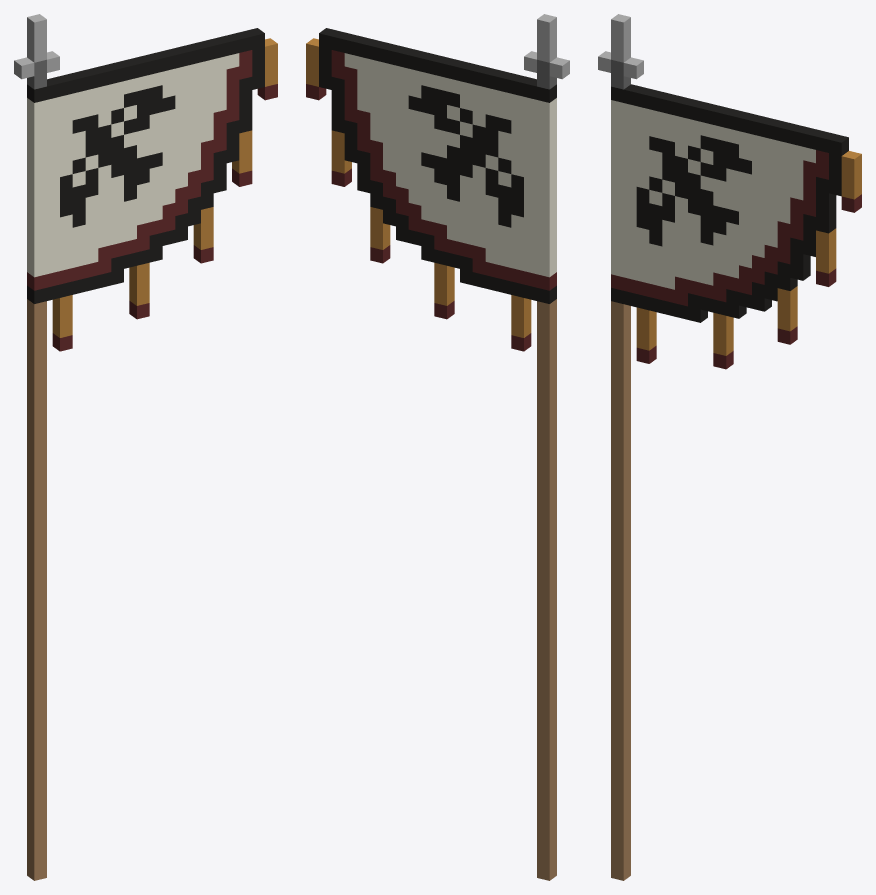
The model's file is character-25-banner_1_2_3_ja_color.obj.
3 views of the same model, side by side, from view 1: azimuth 30°, elevation 25°; view 2: azimuth 150°, elevation 25°; view 3: azimuth 330°, elevation 25° (orthographic).
Parts seen in each view (by area): view 1: banner_1_2_3_ja_color; view 2: banner_1_2_3_ja_color; view 3: banner_1_2_3_ja_color.
Part boxes in pixels (left/top/right/bottom): banner_1_2_3_ja_color: left=14, top=14, right=277, bottom=880; banner_1_2_3_ja_color: left=306, top=14, right=569, bottom=880; banner_1_2_3_ja_color: left=598, top=14, right=861, bottom=880.
Size of the model in its own units: 2 by 6.4 by 0.1.
Materials: 1 (1 with a texture image).
